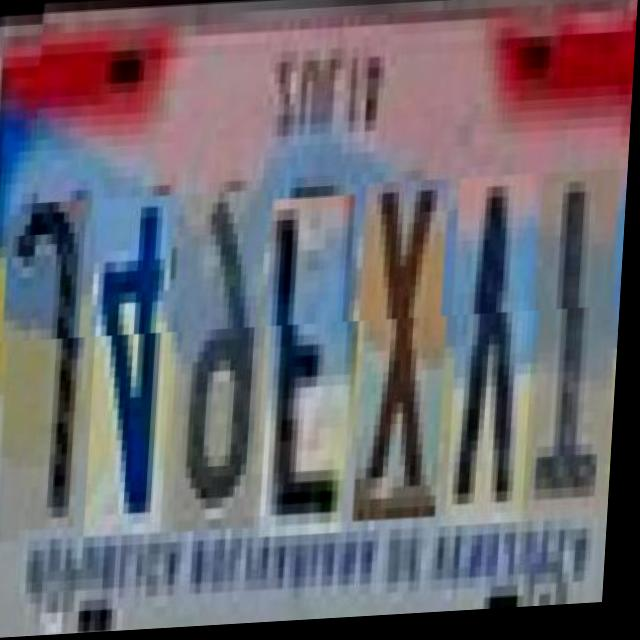4: (90, 197, 183, 539)
9: (178, 193, 276, 535)
f: (265, 199, 364, 542)
j: (3, 200, 95, 532)
t: (535, 177, 628, 529)
v: (452, 180, 545, 533)
x: (359, 185, 457, 527)
